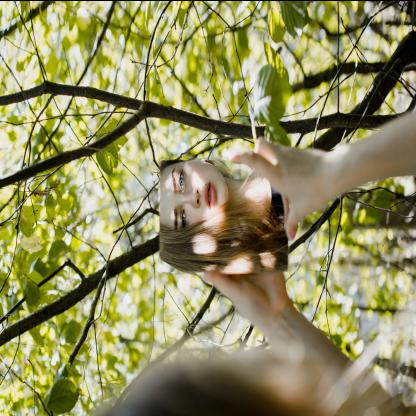Eye: (178, 168, 186, 191), (180, 207, 188, 228)
Mouth: (204, 180, 216, 210)
Nose: (184, 186, 200, 207)
